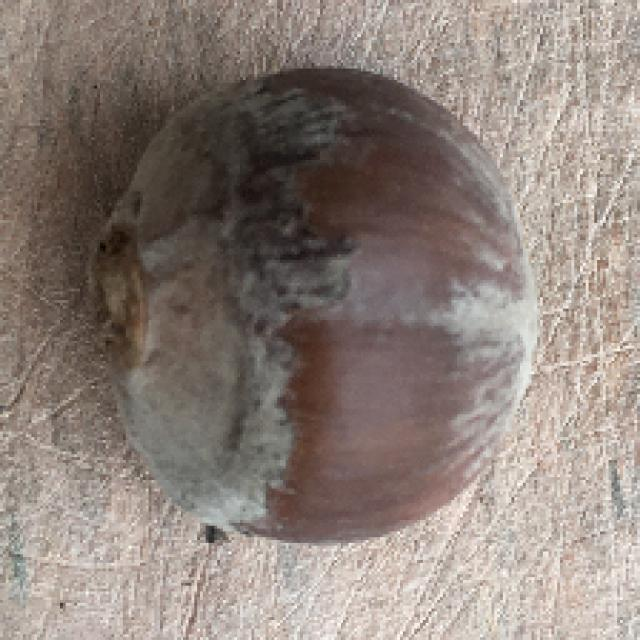damagedHazelnut: (80, 66, 540, 551)
